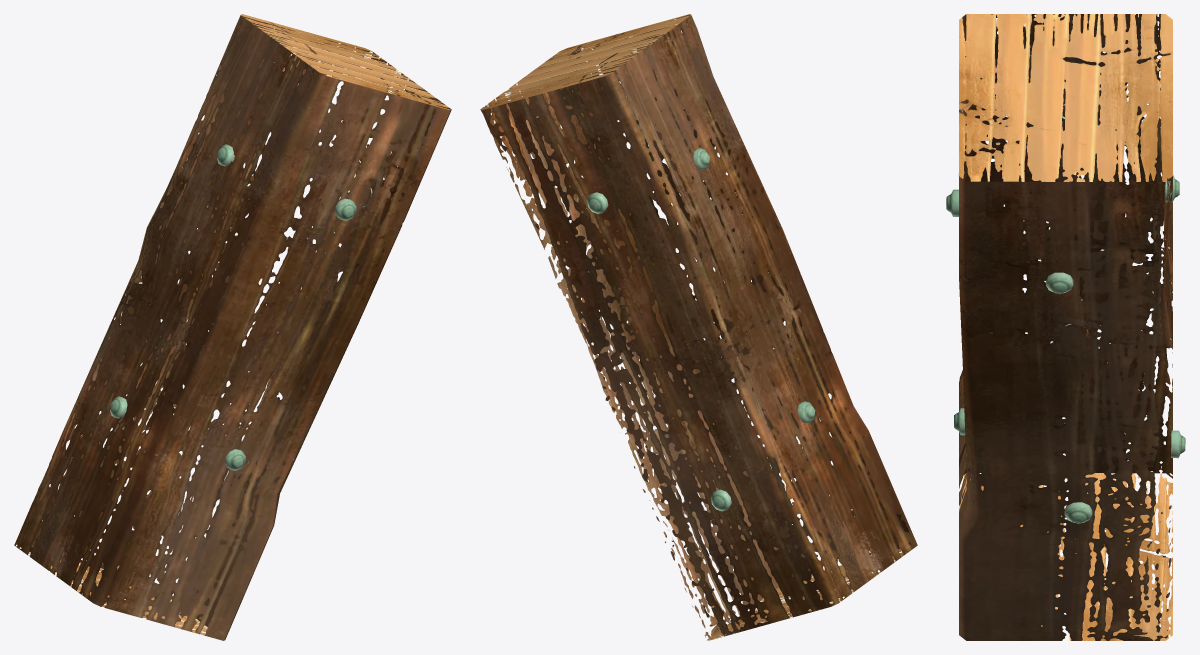
3 renders of one model, left to right at view 1: azimuth 30°, elevation 25°; view 2: azimuth 150°, elevation 25°; view 3: azimuth 270°, elevation 25°, orthographic. The views are drawn at different scales.
Visible parts, largest first — view 1: SM_BB_T4_Beam_Thick_Med_Steep_LOD0; view 2: SM_BB_T4_Beam_Thick_Med_Steep_LOD0; view 3: SM_BB_T4_Beam_Thick_Med_Steep_LOD0.
Boxes of the visible parts, x1,y1,x2,y2 form: SM_BB_T4_Beam_Thick_Med_Steep_LOD0: [14, 14, 451, 640]; SM_BB_T4_Beam_Thick_Med_Steep_LOD0: [480, 14, 917, 640]; SM_BB_T4_Beam_Thick_Med_Steep_LOD0: [946, 14, 1185, 640].
Size of the model in its own units: 1.18 by 1.72 by 0.5436.
Materials: 2 (2 with a texture image).
